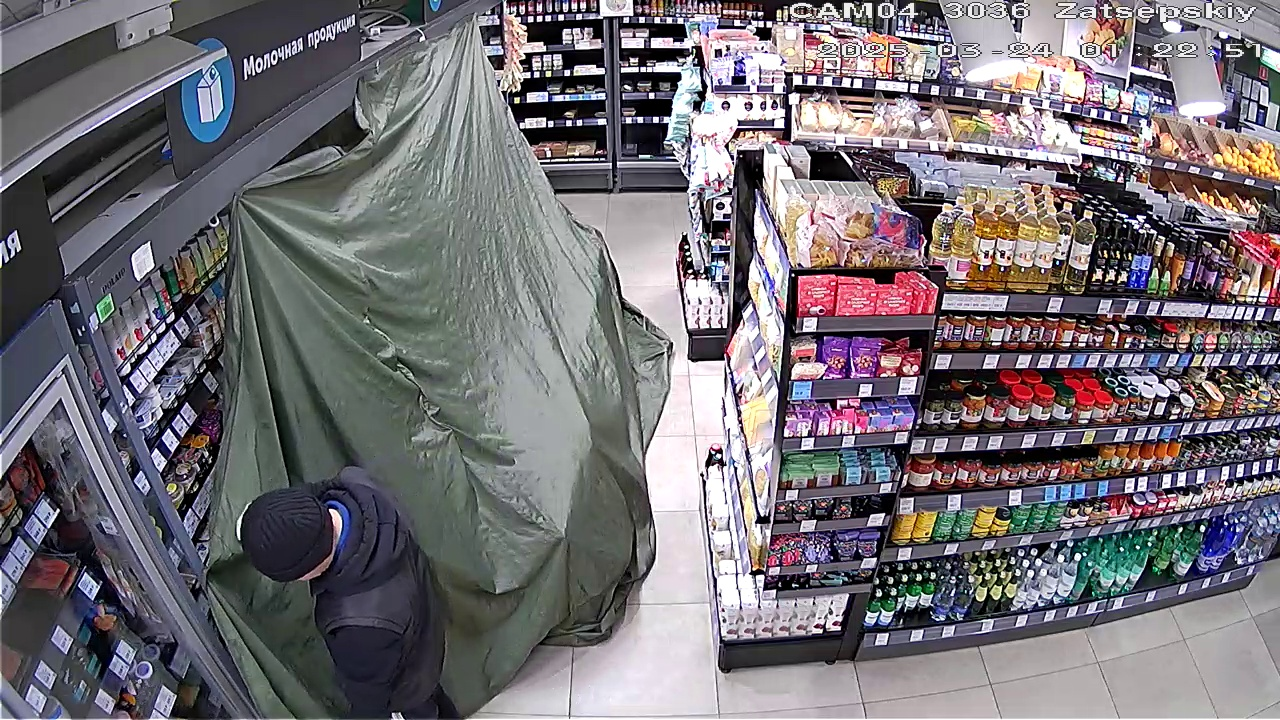Human: (225, 468, 456, 719)
dome: (203, 32, 663, 695)
